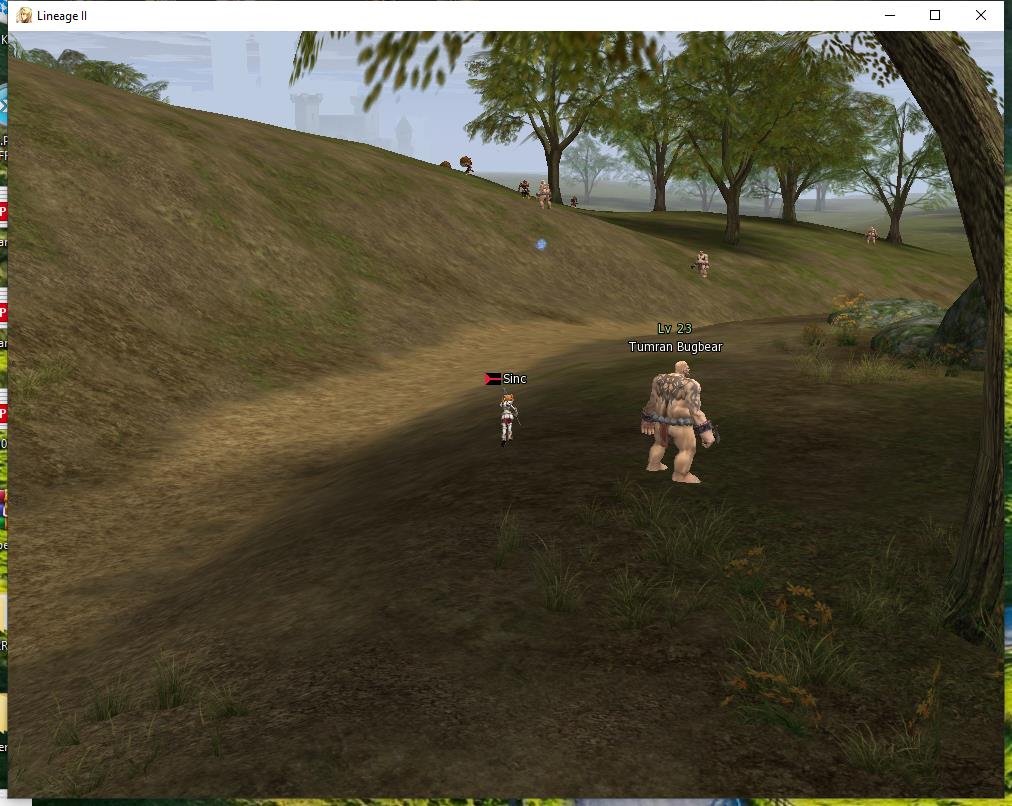monster: (620, 302, 736, 485), (683, 245, 714, 291), (538, 174, 555, 209), (458, 155, 480, 175), (514, 175, 530, 196), (866, 225, 878, 248)
